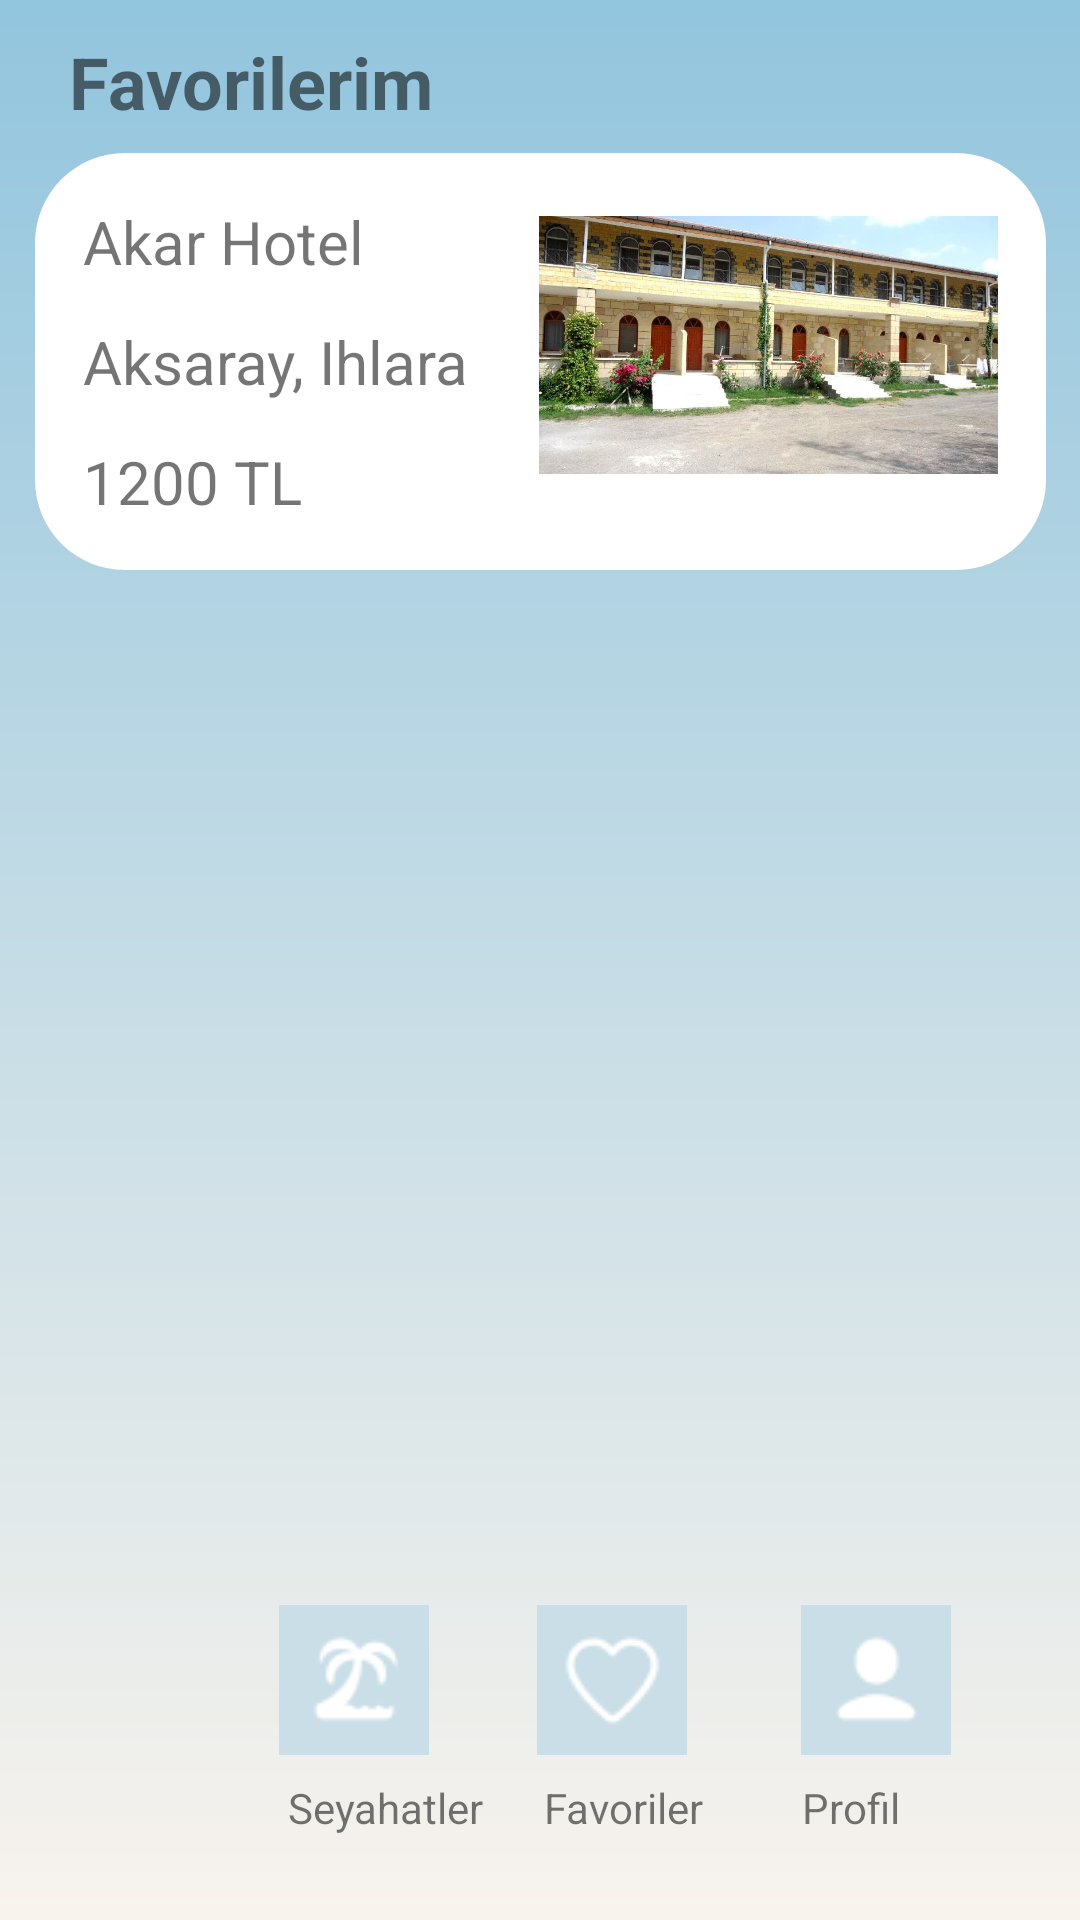

Where to tap for icons on this 1080 x 1920 app screen, as [x,y]:
beach: [354,1680]
